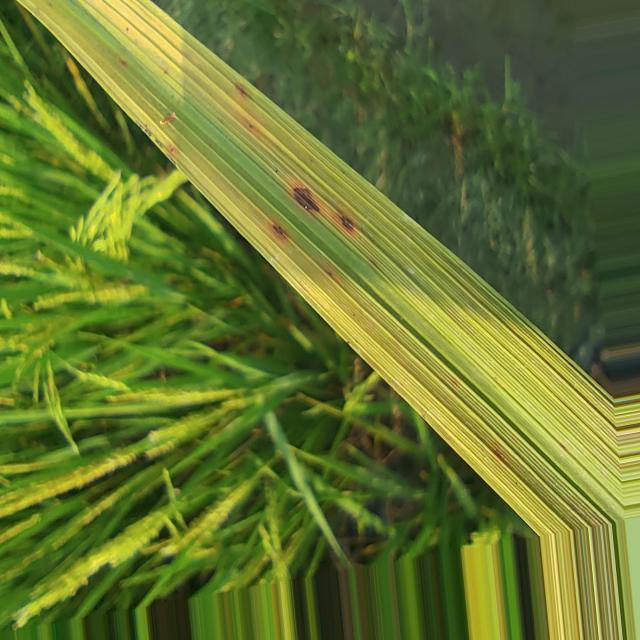Brown_Spot: (291, 182, 320, 212), (339, 215, 354, 232), (271, 223, 288, 238), (235, 80, 249, 95)
